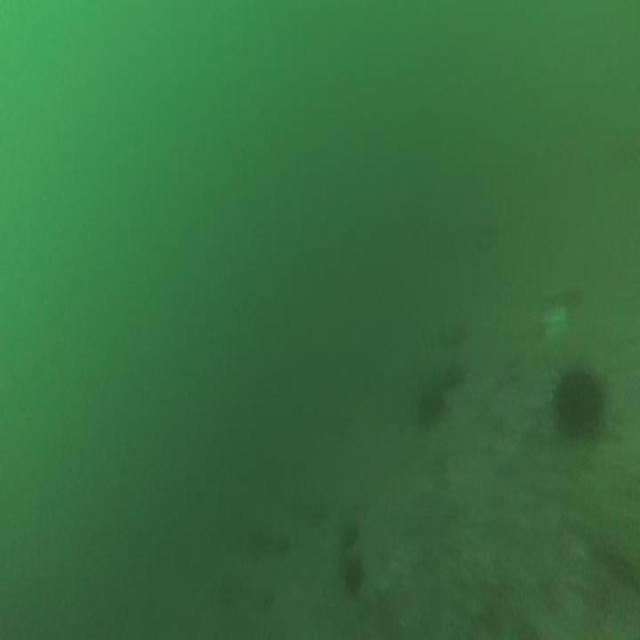echinus: (556, 368, 606, 443), (419, 382, 444, 428), (441, 363, 463, 392), (344, 558, 363, 591), (338, 517, 356, 545)
